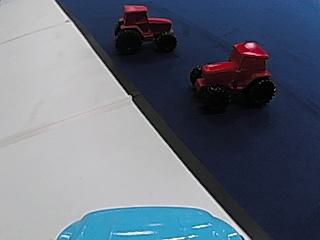Tracktor: (185, 39, 278, 107), (113, 3, 177, 52)
